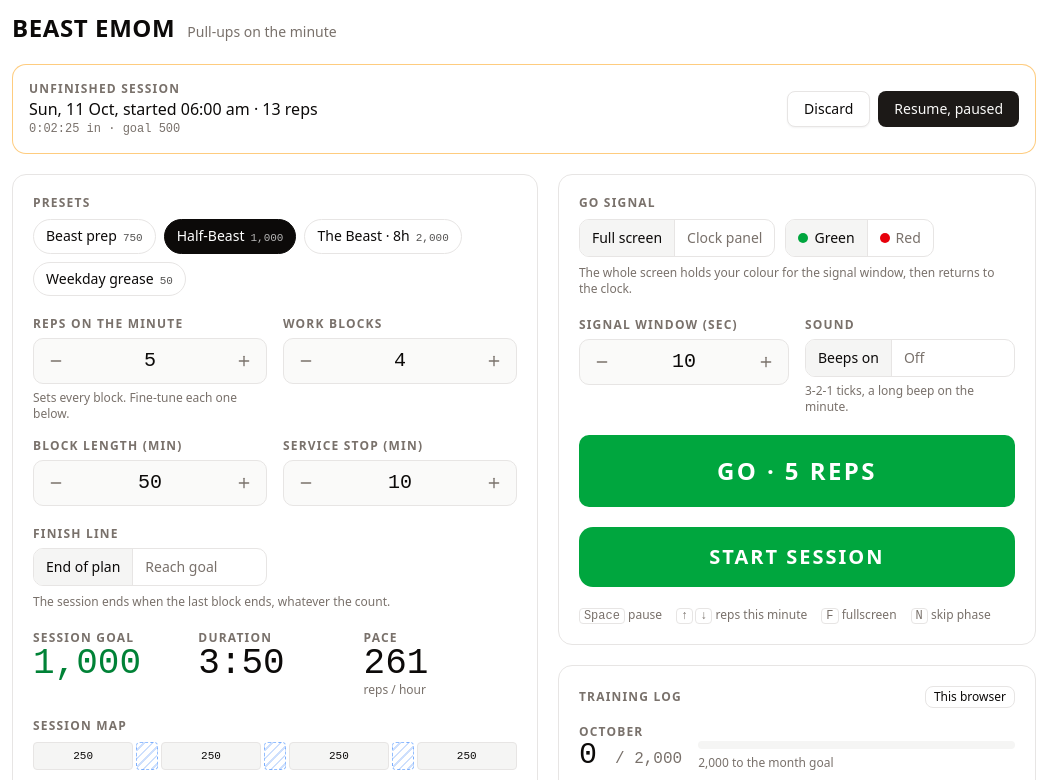
Scenario: EmomTracker › offers to resume an unfinished session, paused
Expected: the text "Sun, 11 Oct, started 06:00 am · 13 reps" is shown, [29,97,318,121]
Click the button "Resume, paused": (949, 109) [878,91,1019,127]
Wait 5000 ms
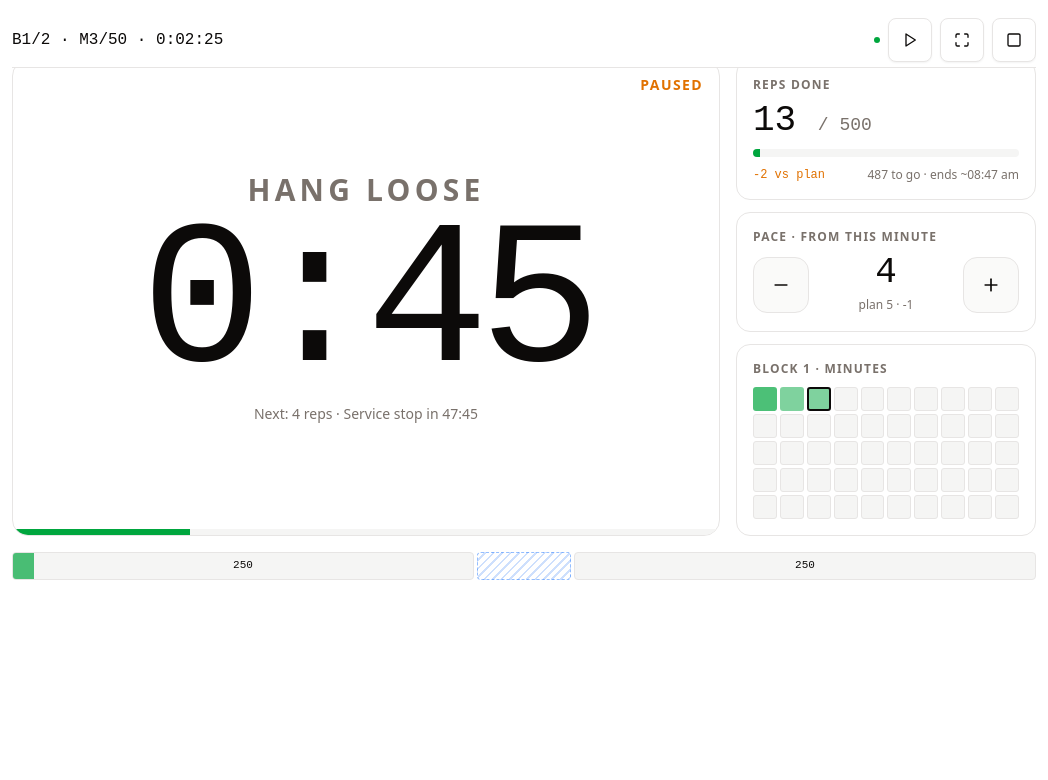
Expected: the button named "Resume" is shown, [888,18,932,62]
Expected: the text "0:45" is shown, [141,214,591,398]
Expected: the text with test id "emom-pace" reads "4", [875,252,897,293]
